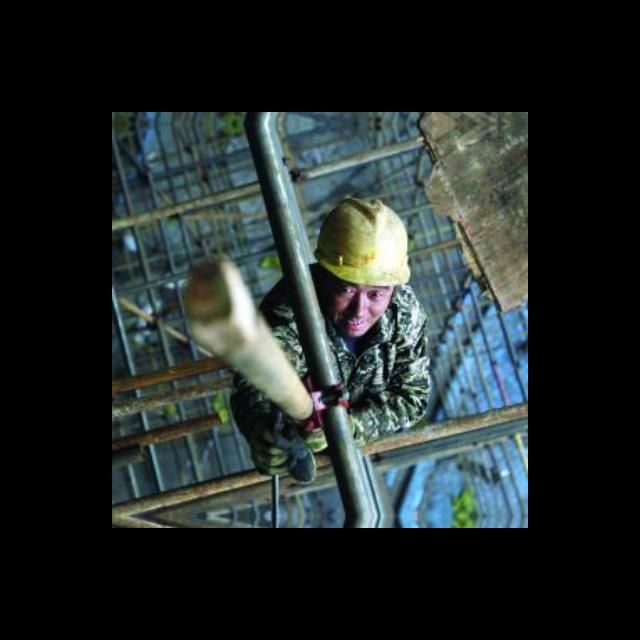Gloves: (264, 413, 304, 450)
Hardhat: (313, 197, 412, 286)
NO-Mask: (323, 296, 388, 336)
NO-Safety Vest: (287, 288, 410, 426)
Person: (232, 193, 431, 488)
